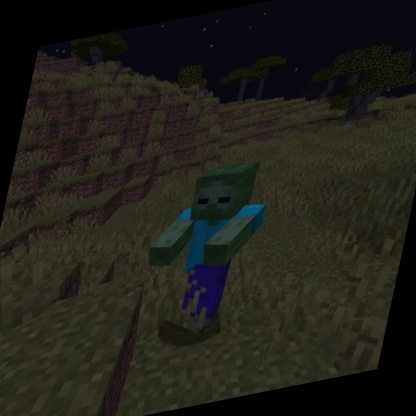zombie: (127, 150, 281, 346)
